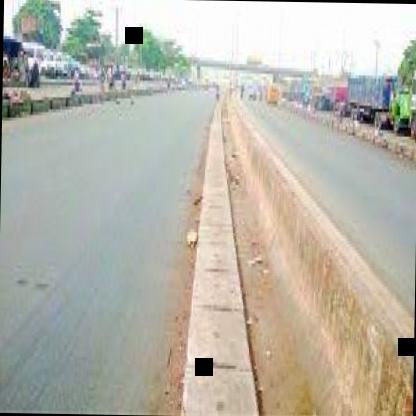car: (2, 31, 51, 91), (263, 77, 280, 107)
